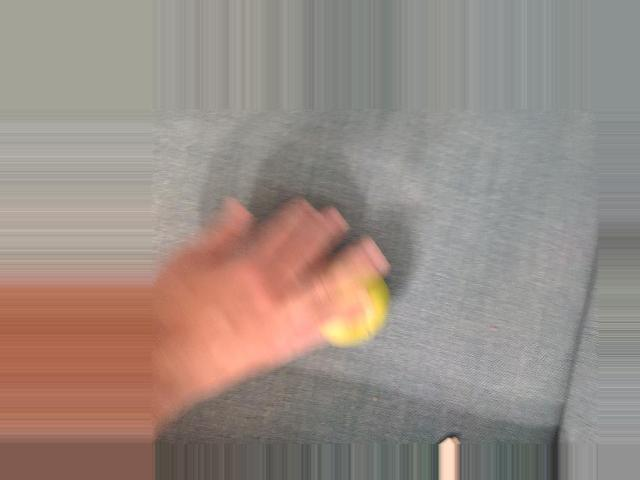apple: (286, 243, 397, 360)
